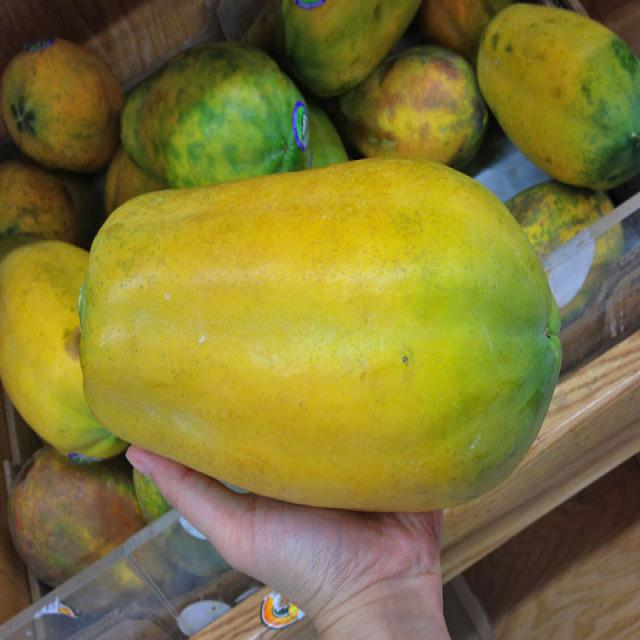Pepaya rippen: (52, 161, 589, 499)
